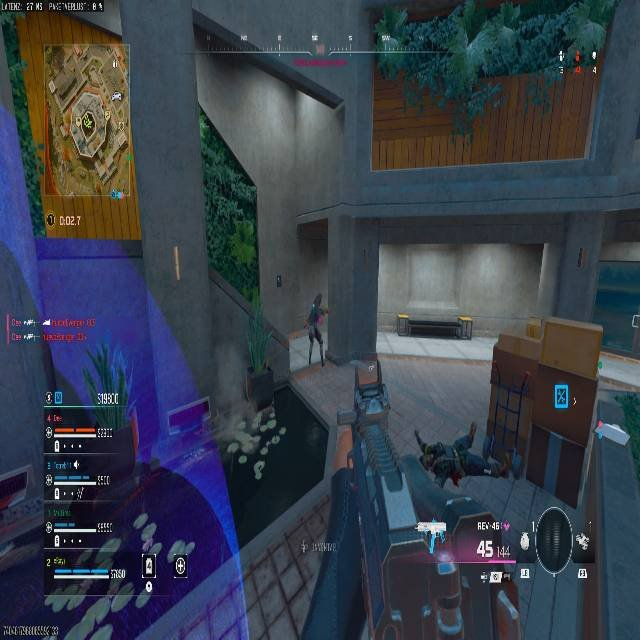head: (314, 293, 323, 305)
player: (305, 293, 329, 356)
